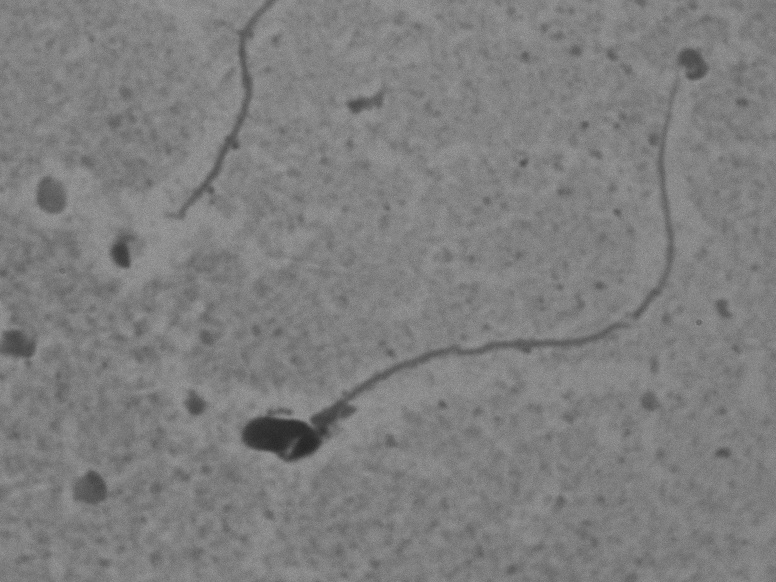Abnormal: (217, 40, 695, 476)
